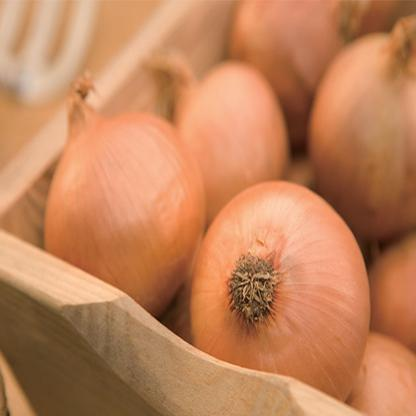onion: (184, 188, 368, 412), (61, 90, 191, 310)
